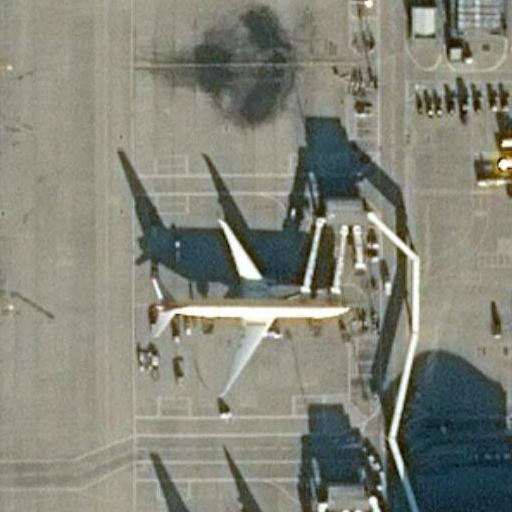Aircraft: (139, 213, 351, 393), (146, 217, 355, 393), (176, 503, 356, 512), (174, 509, 355, 512)
